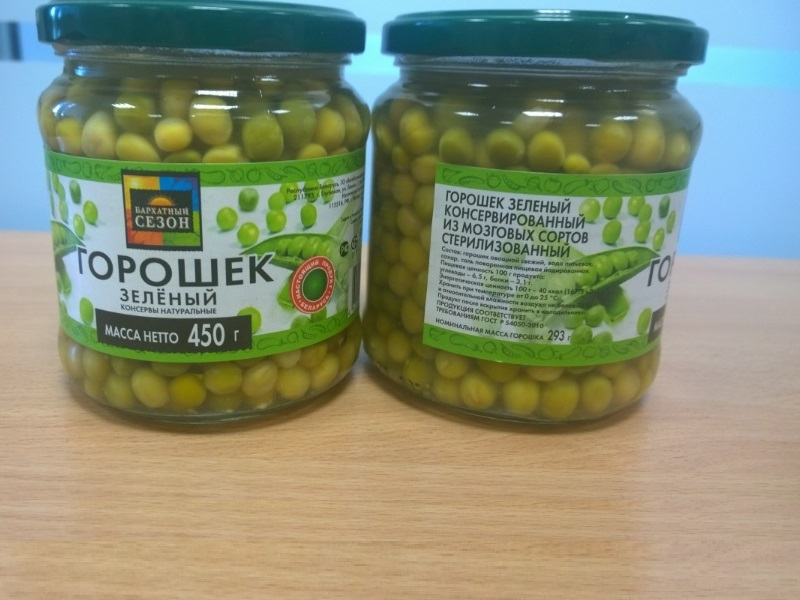peas: (345, 7, 716, 460), (26, 1, 375, 430)
